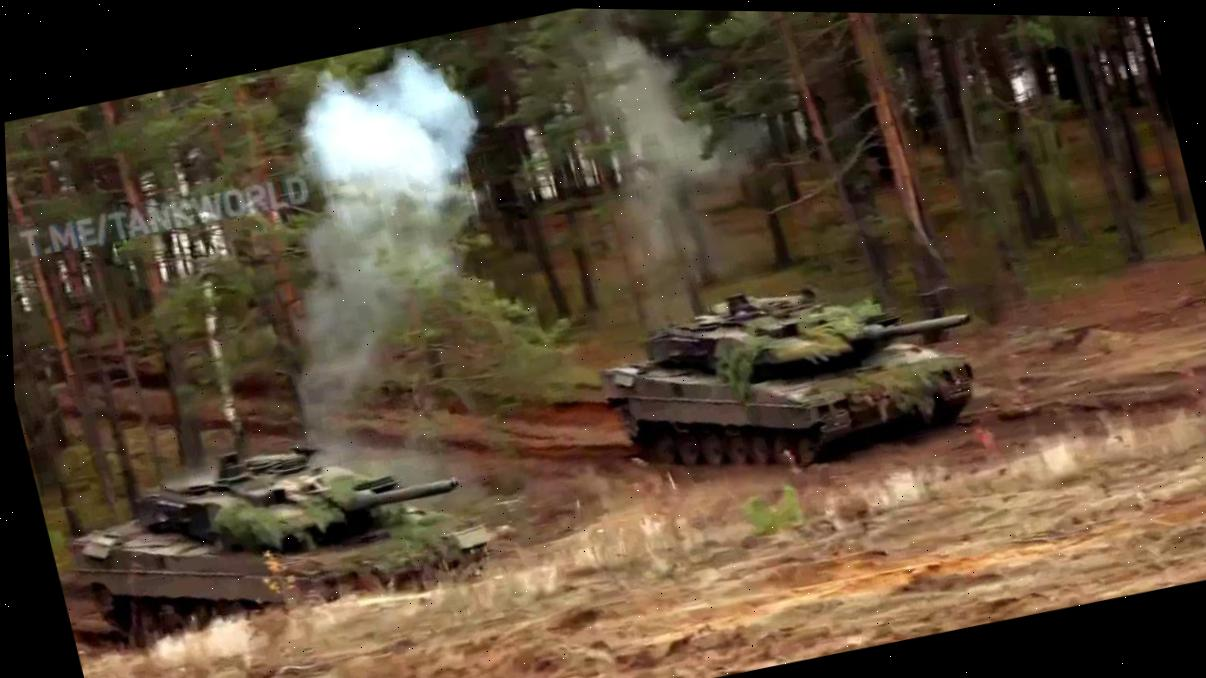tank: (57, 398, 505, 662), (585, 241, 1003, 503)
